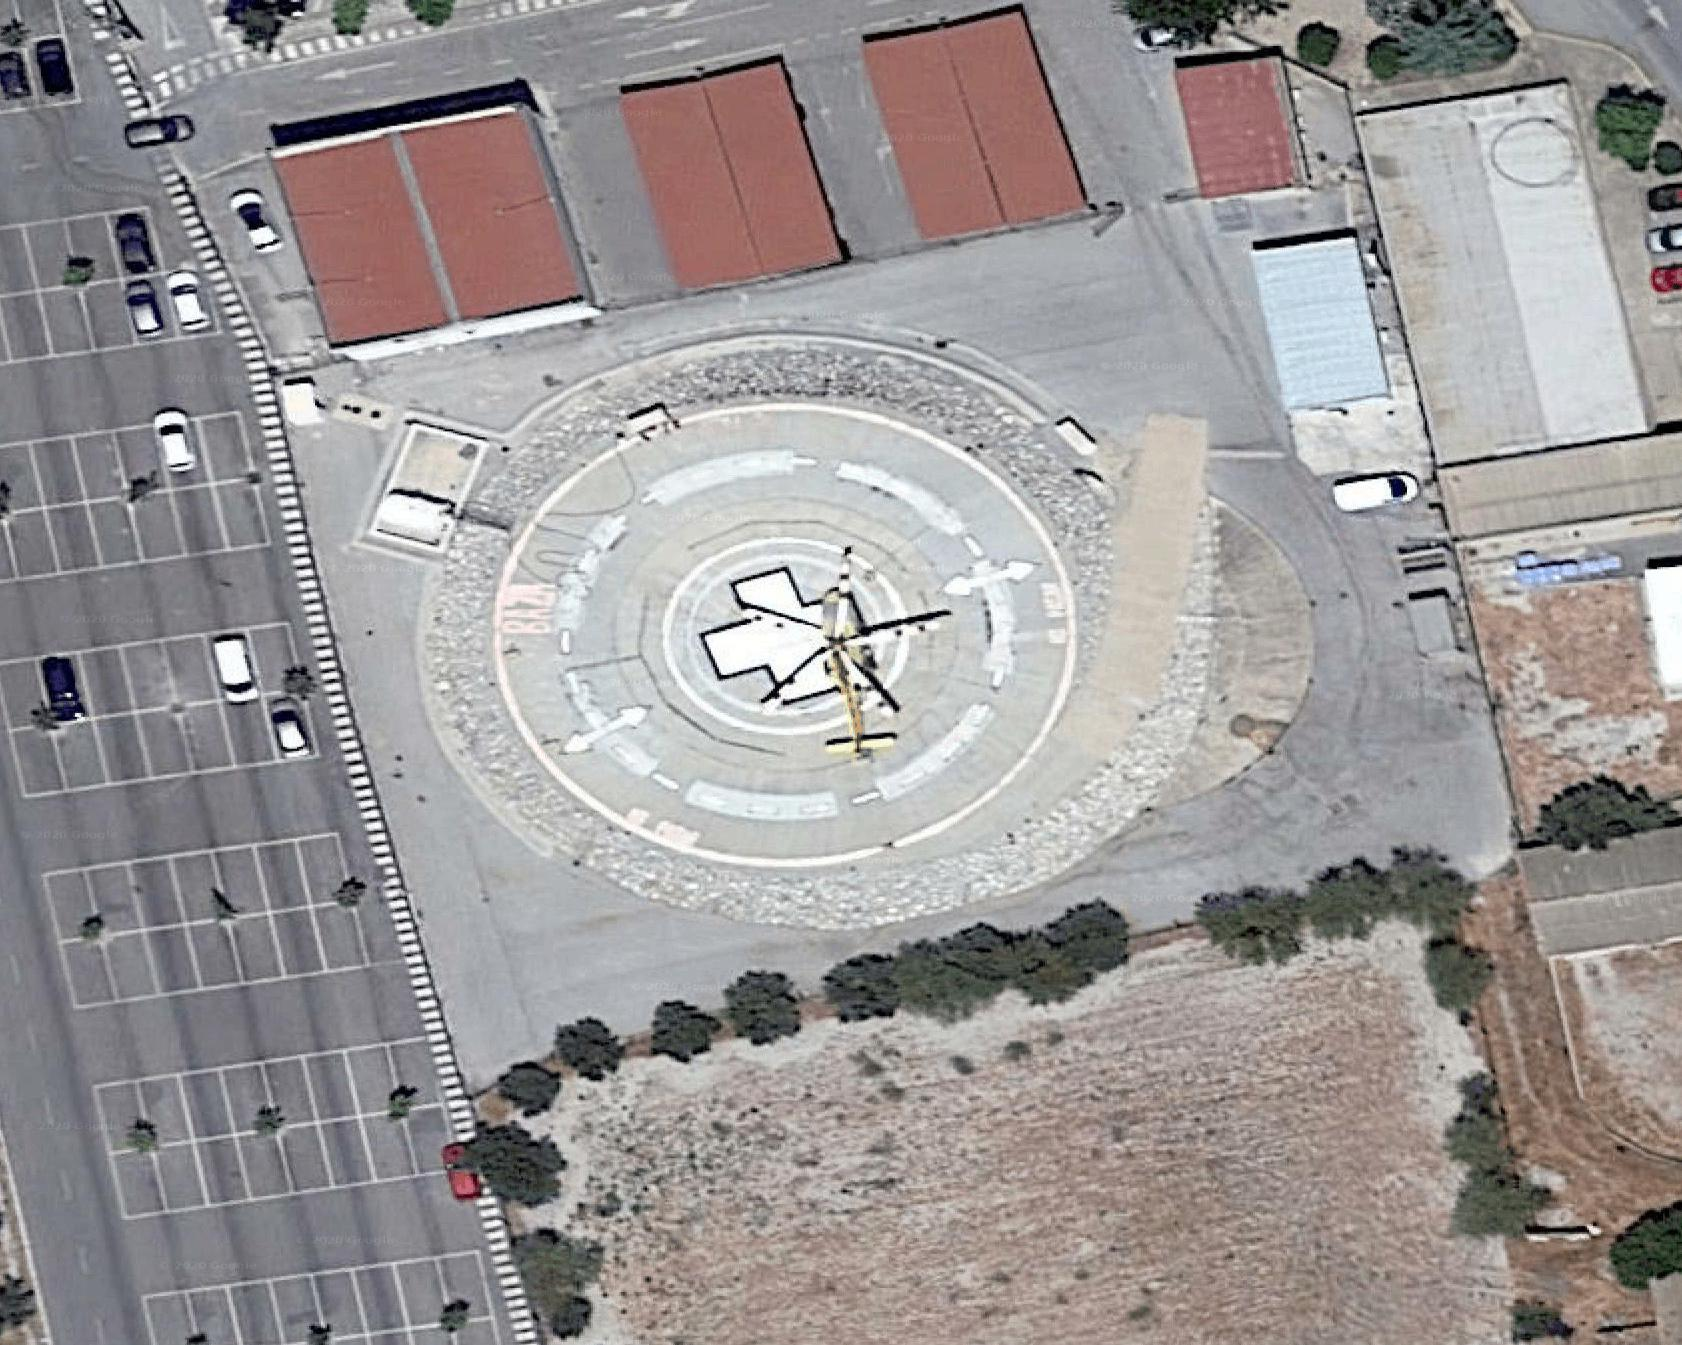helicopter: (737, 559, 966, 769)
helipad: (462, 362, 1217, 899)
small-vehicle: (1332, 469, 1419, 513), (213, 634, 262, 708), (43, 655, 91, 727), (229, 187, 280, 255), (154, 406, 199, 475), (33, 34, 75, 104), (122, 110, 192, 152)
